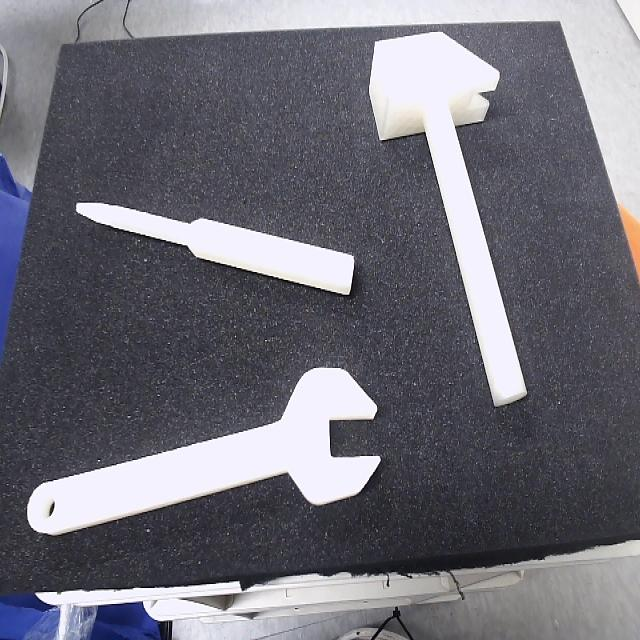Driver: (75, 203, 356, 297)
Hammer: (369, 32, 528, 409)
Spanner: (26, 368, 382, 537)
